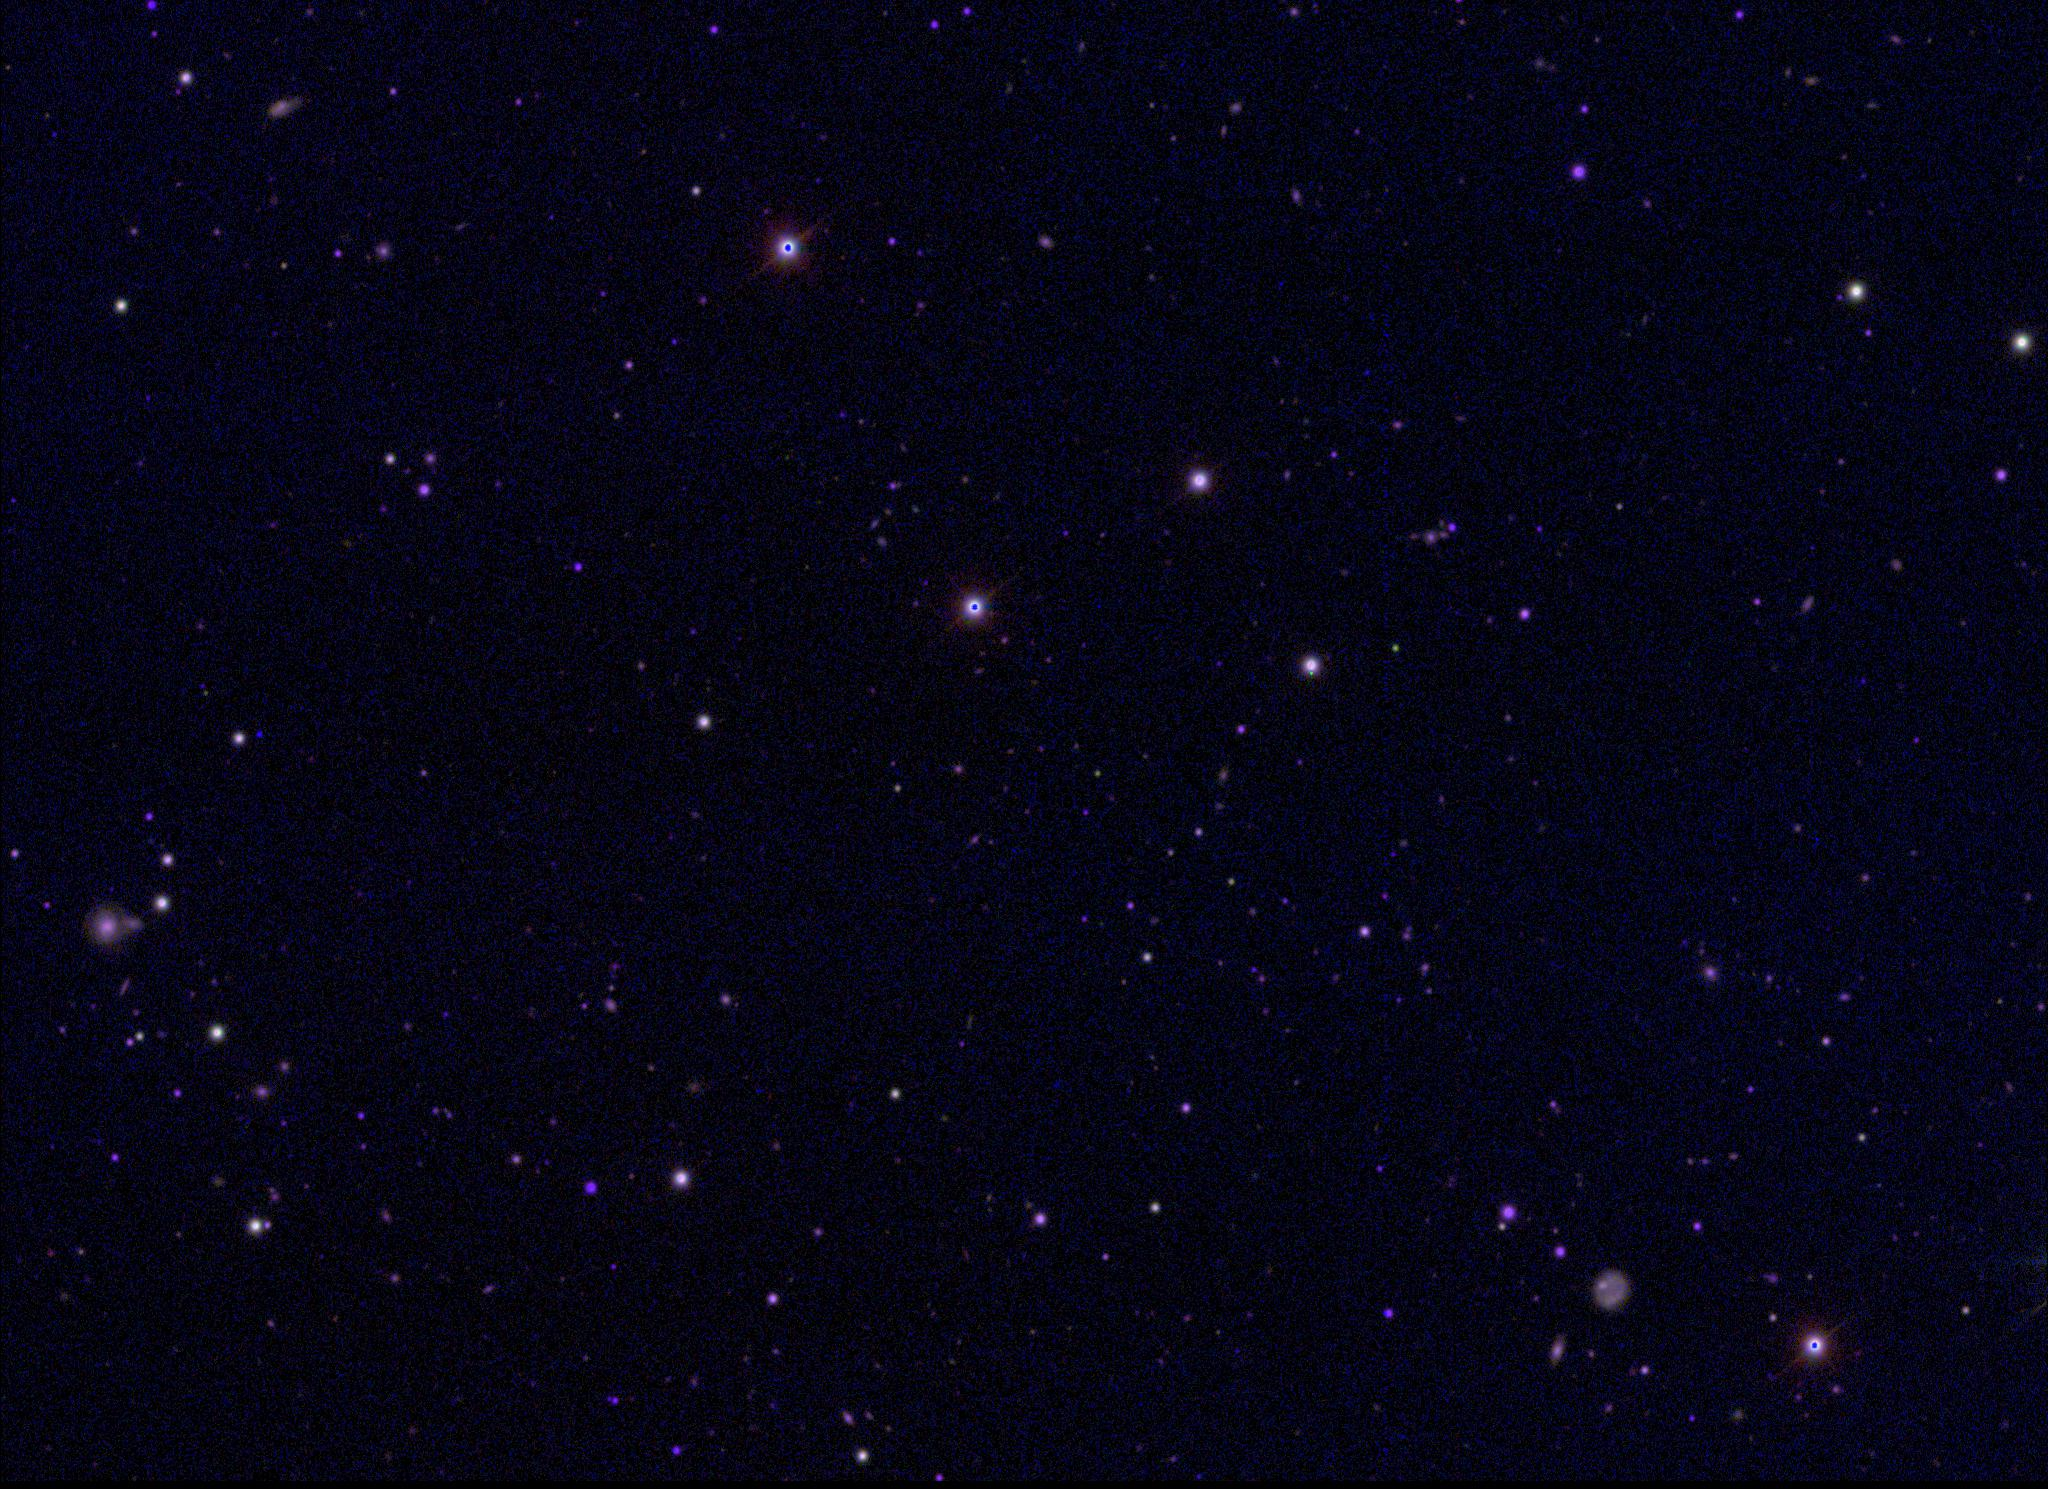L: (253, 729, 267, 741)
